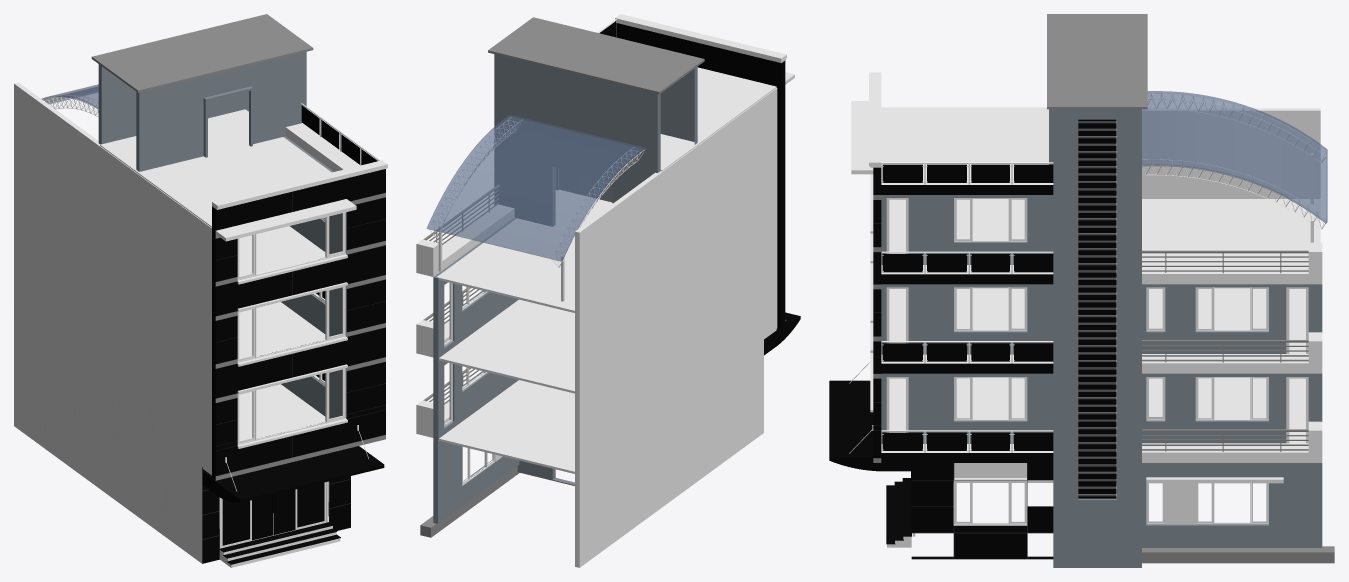
Rendered from IMMEUBLE.FBX.
3 renders of one model, left to right at view 1: azimuth 30°, elevation 25°; view 2: azimuth 150°, elevation 25°; view 3: azimuth 270°, elevation 25°, orthographic. The views are drawn at different scales.
Visible parts, largest first — view 1: Rectangle19; view 2: Rectangle19; view 3: Rectangle19.
Boxes of the visible parts, box(x1,y1,x2,y2) form: Rectangle19: box(14, 14, 387, 567); Rectangle19: box(416, 14, 800, 567); Rectangle19: box(829, 14, 1334, 567).
Bounding box in the file's own units: 65.29 × 151 × 148.
